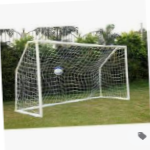goals: (13, 39, 131, 117)
